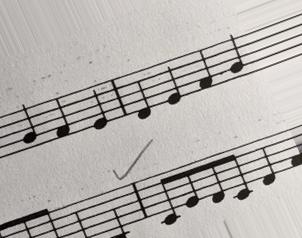note: (84, 84, 111, 133), (132, 68, 155, 122), (256, 135, 278, 190), (46, 96, 72, 142), (192, 47, 215, 94), (18, 102, 39, 153), (162, 59, 183, 108), (226, 32, 246, 83)
